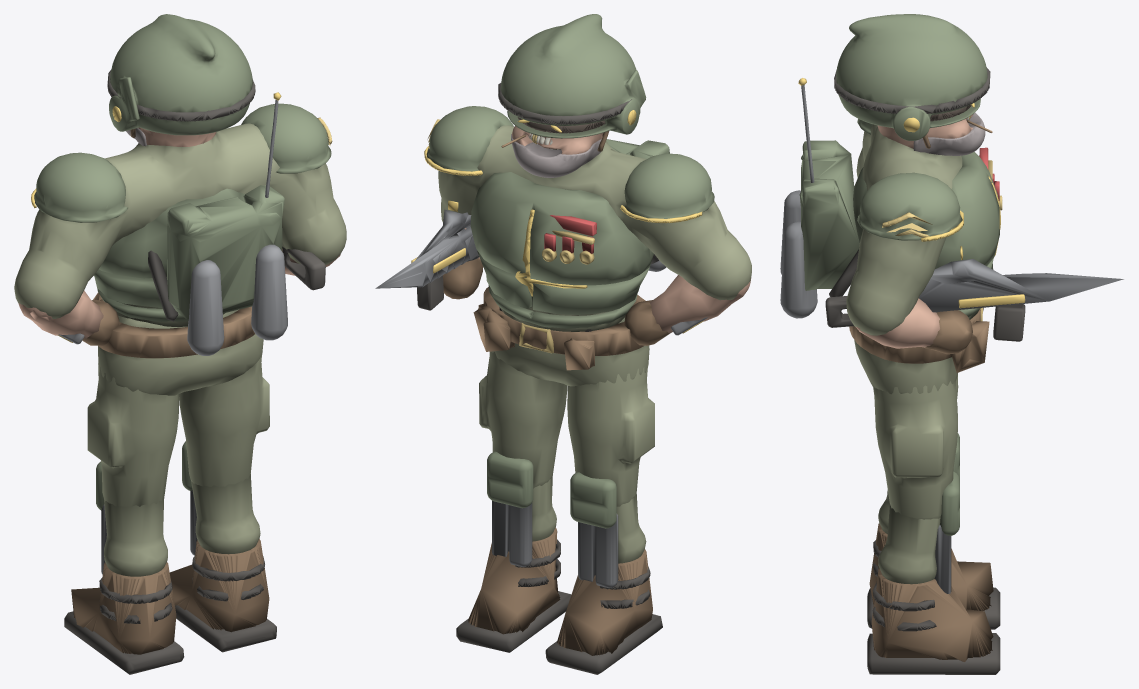
Rendered from grunt.glb.
3 views of the same model, side by side, from view 1: azimuth 30°, elevation 25°; view 2: azimuth 150°, elevation 25°; view 3: azimuth 270°, elevation 25° (orthographic). The views are drawn at different scales.
Parts seen in each view (by area): view 1: Tunic, Helmet, Pack, Pauldrons, ThighL, ThighR, Thrusters, Pelvis, BootL, Vest, BootR, ShinL (+12 smaller); view 2: Vest, Tunic, Helmet, Pauldrons, ThighL, ThighR, BootL, BootR, Pelvis, Rifle, Belt, Forearms (+20 smaller); view 3: Helmet, Tunic, ThighR, Pack, BootR, Rifle, Pauldrons, Vest, ShinR, Thrusters, Pelvis, SoleR (+16 smaller).
Boxes of the visible parts, bbox=[...] form: Tunic: bbox=[14, 123, 346, 326]; Helmet: bbox=[109, 14, 252, 135]; Pack: bbox=[167, 185, 284, 320]; Pauldrons: bbox=[34, 103, 331, 222]; ThighL: bbox=[87, 366, 179, 506]; ThighR: bbox=[179, 355, 269, 487]; Thrusters: bbox=[187, 99, 287, 355]; Pelvis: bbox=[98, 309, 263, 395]; BootL: bbox=[71, 562, 176, 654]; Vest: bbox=[94, 151, 244, 321]; BootR: bbox=[169, 538, 269, 632]; ShinL: bbox=[104, 498, 167, 576]; Vest: bbox=[470, 172, 653, 328]; Tunic: bbox=[438, 125, 751, 331]; Helmet: bbox=[500, 14, 646, 138]; Pauldrons: bbox=[426, 106, 714, 218]; ThighL: bbox=[567, 363, 654, 506]; ThighR: bbox=[479, 351, 567, 488]; BootL: bbox=[557, 549, 652, 655]; BootR: bbox=[468, 527, 560, 634]; Pelvis: bbox=[492, 317, 649, 386]; Rifle: bbox=[375, 209, 479, 288]; Belt: bbox=[483, 287, 645, 355]; Forearms: bbox=[464, 228, 751, 333]; Helmet: bbox=[836, 14, 987, 140]; Tunic: bbox=[846, 124, 979, 335]; ThighR: bbox=[873, 380, 957, 519]; Pack: bbox=[799, 140, 859, 290]; BootR: bbox=[871, 568, 993, 661]; Rifle: bbox=[919, 259, 1123, 312]; Pauldrons: bbox=[857, 119, 962, 240]; Vest: bbox=[853, 152, 999, 316]; ShinR: bbox=[878, 504, 940, 584]; Thrusters: bbox=[780, 85, 817, 318]; Pelvis: bbox=[854, 340, 957, 394]; SoleR: bbox=[867, 633, 1000, 674].
Bounding box in the file's own units: 0.9972 × 1.86 × 0.9304.
